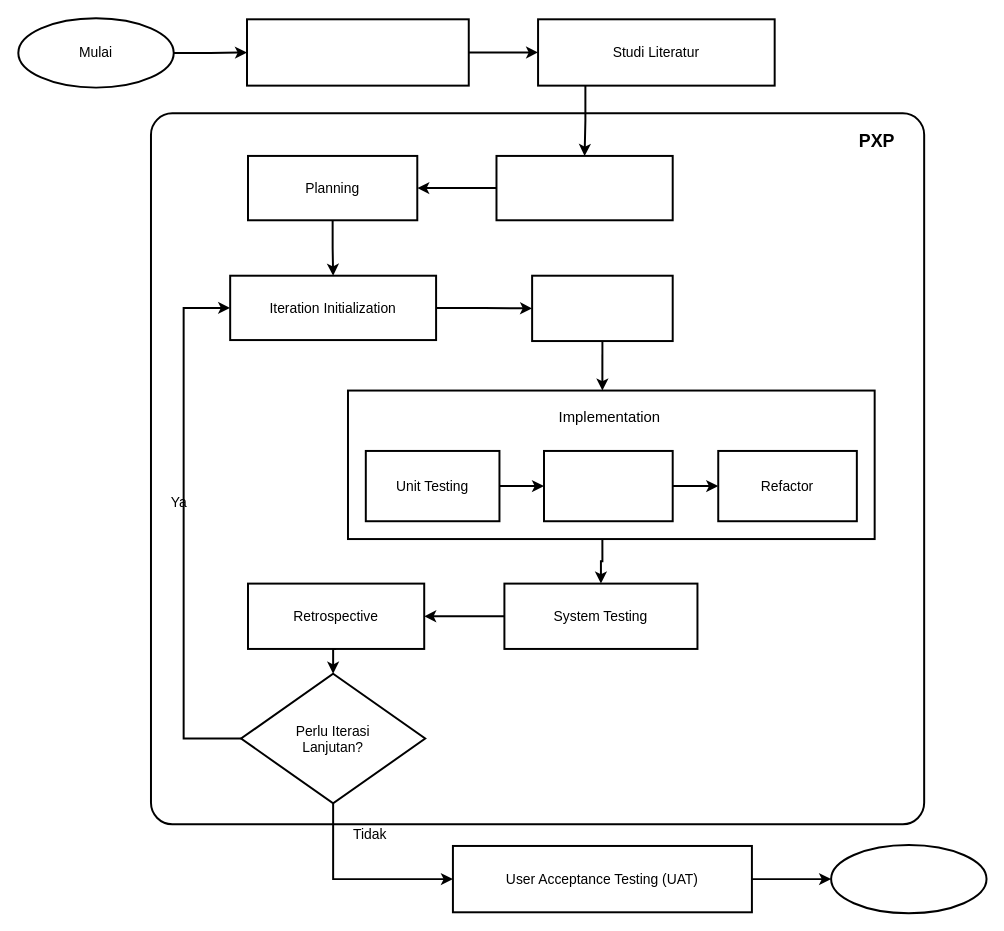
Some shapes in this 1004 by 931 pixel diagram are drawn without their labels. Each missing label, with the centre of its shape:
"Code" goes at [608,485].
"Design" goes at [602,308].
"Identifikasi Masalah" goes at [357,52].
"Requirements" goes at [584,187].
"Selesai" goes at [908,878].
